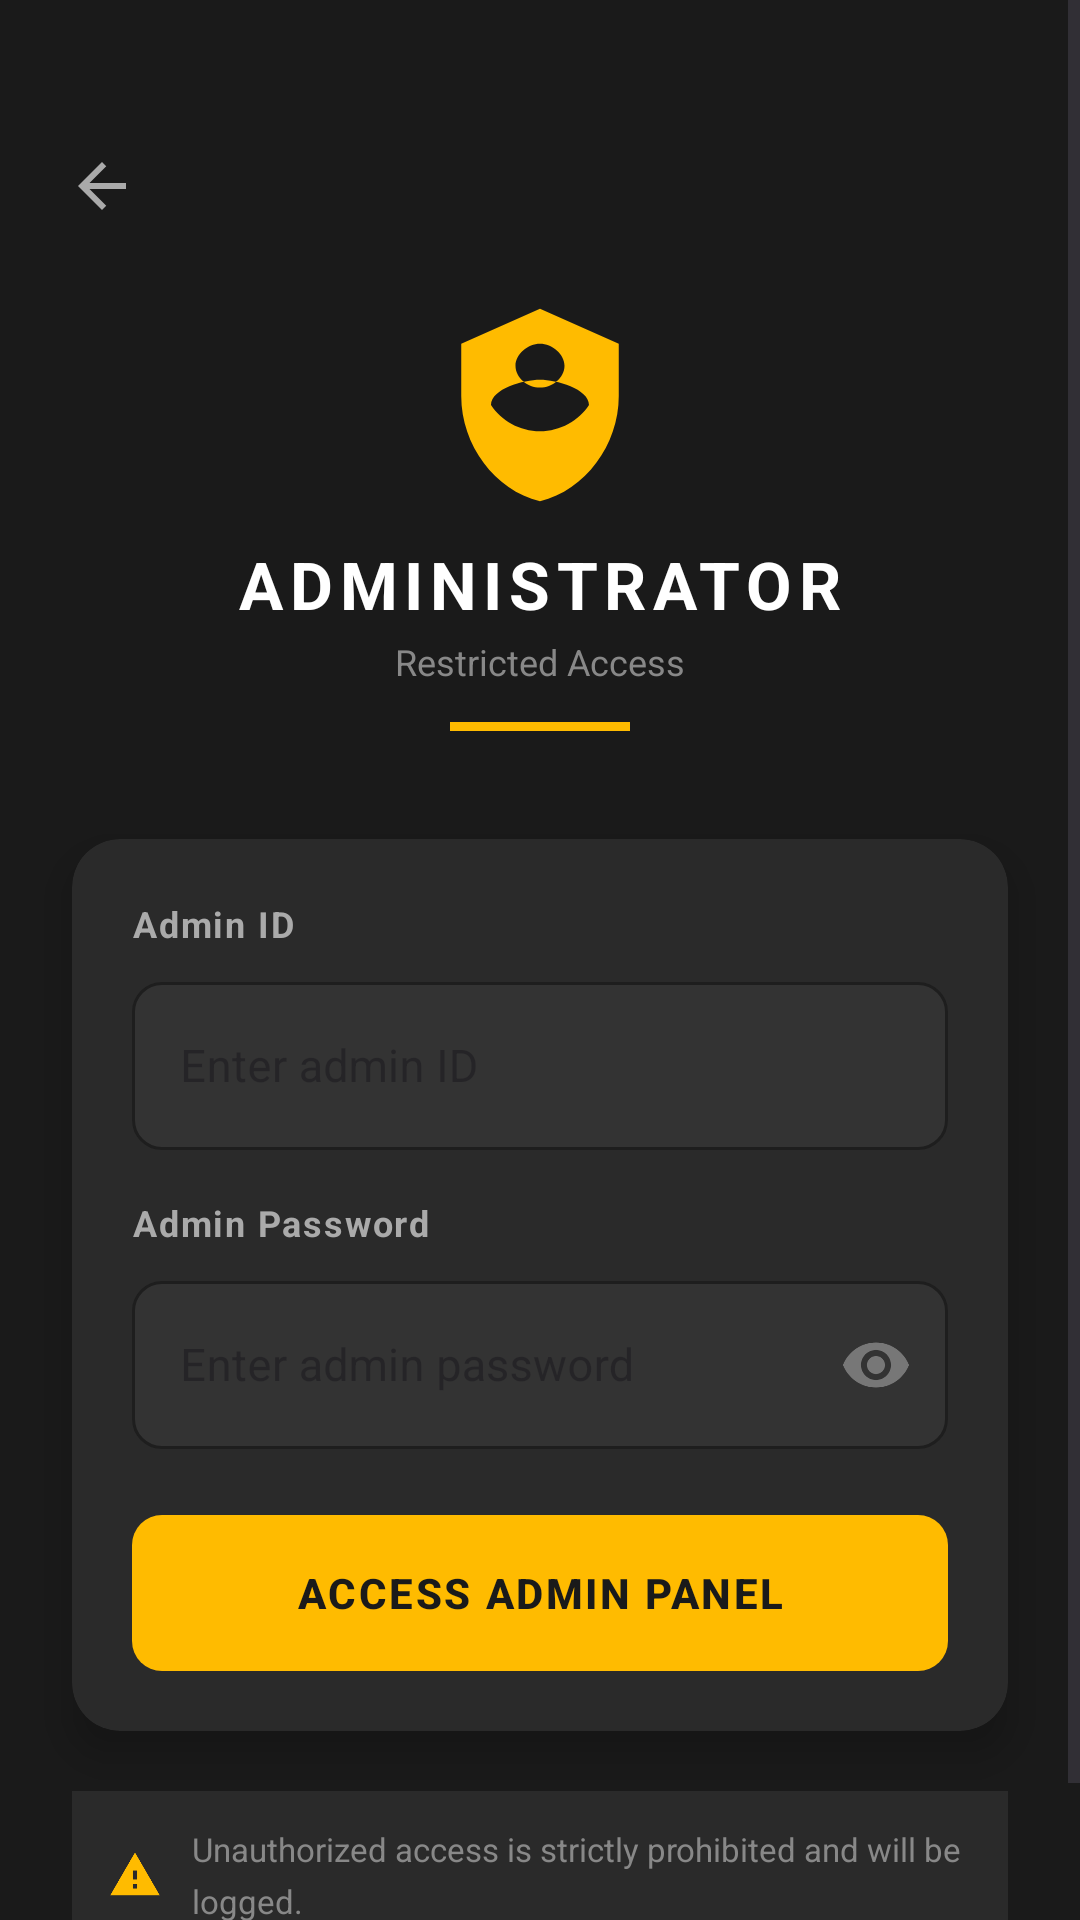

Icons on this 1080 × 1920 Android screen, each with the point to tap as point (x, y):
Admin Shield: point (540, 405)
Back: point (102, 186)
Warning: point (135, 1874)
